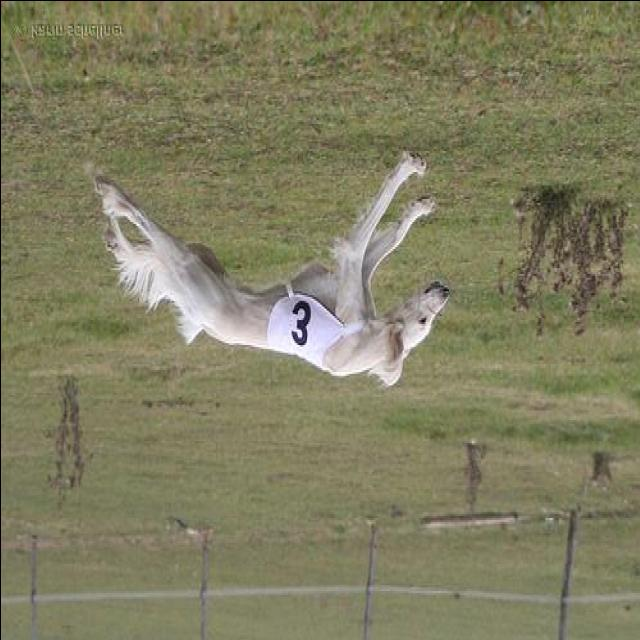saluki: (98, 154, 452, 384)
